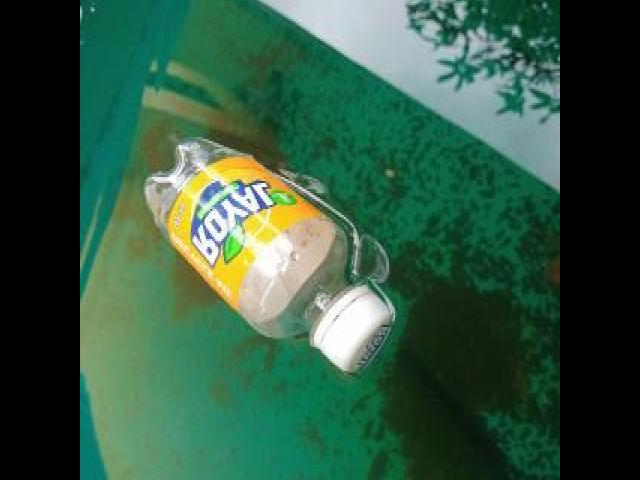Bottle: (138, 127, 399, 380)
